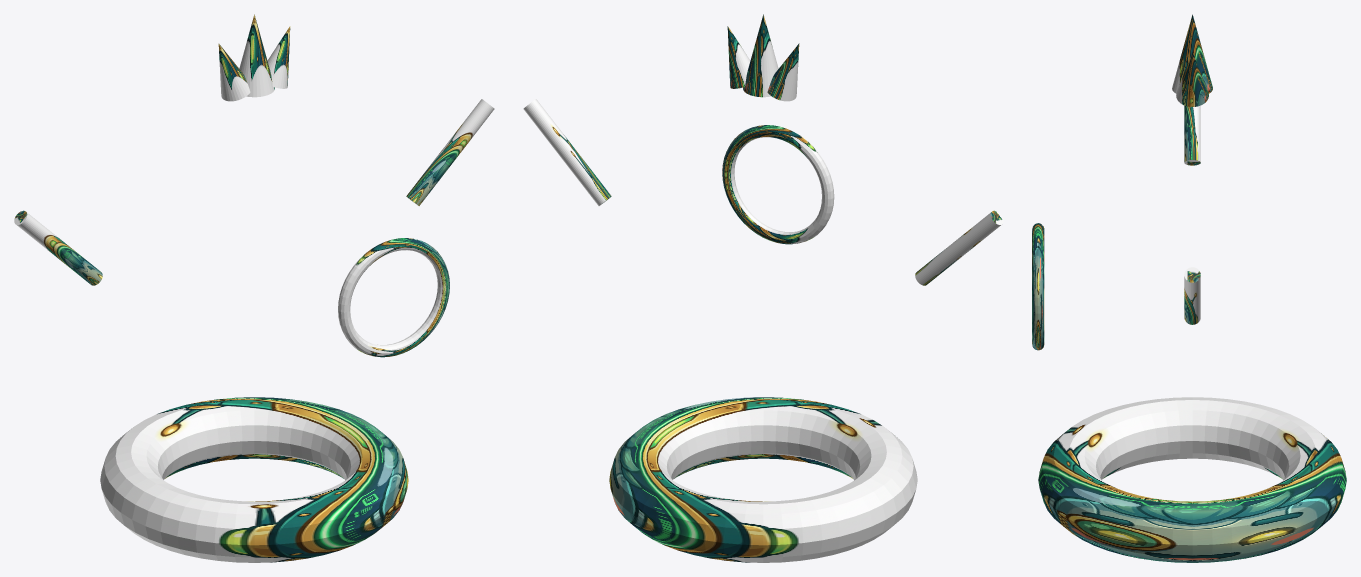
Rendered from accountant_v3_robot.glb.
The picture shows the model from 3 angles, left to right: view 1: azimuth 30°, elevation 25°; view 2: azimuth 150°, elevation 25°; view 3: azimuth 270°, elevation 25°; orthographic projection.
Visible parts, largest first — view 1: Accountant_Head; view 2: Accountant_Head; view 3: Accountant_Head.
Boxes of the visible parts, x1,y1,x2,y2 form: Accountant_Head: [14, 14, 494, 562]; Accountant_Head: [523, 14, 1003, 562]; Accountant_Head: [1032, 14, 1346, 562].
Size of the model in its own units: 2.68 by 2.65 by 1.53.
Materials: 1 (1 with a texture image).
